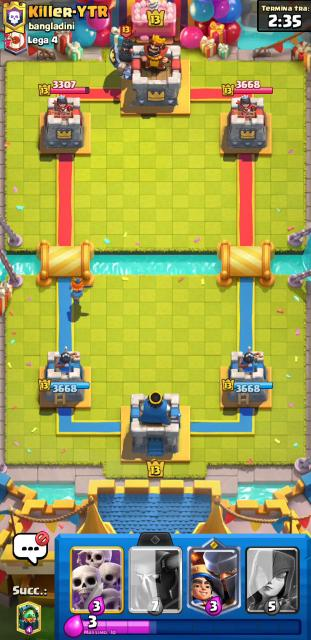ally_melee: (69, 277, 84, 304)
enemy_melee: (109, 25, 134, 80)
